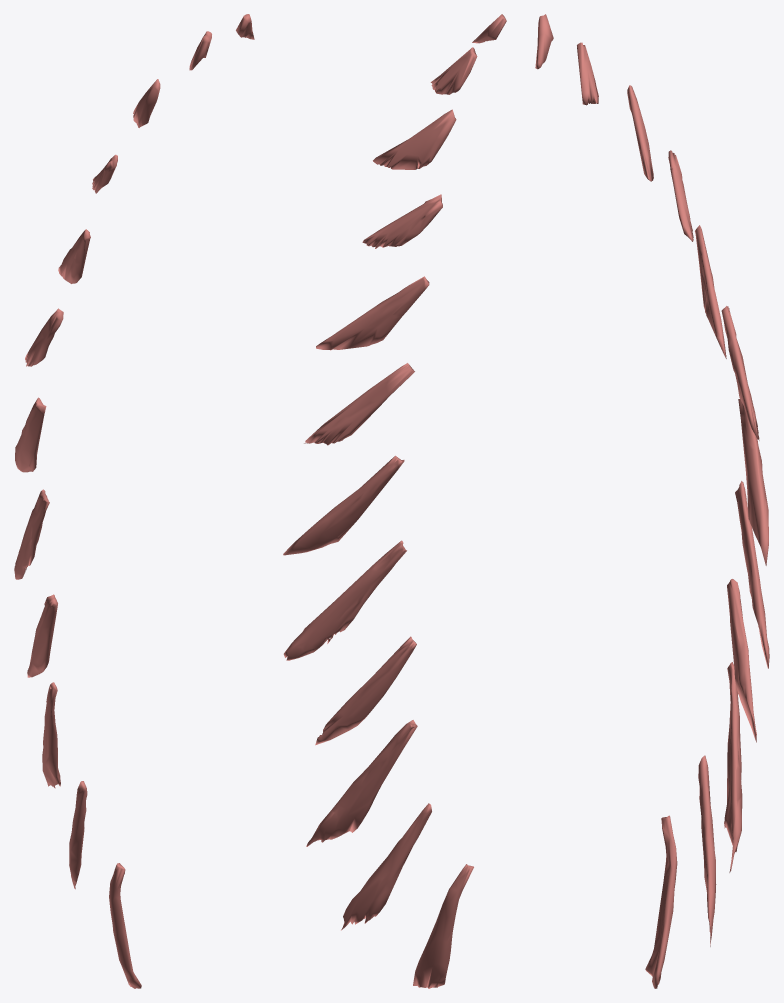
The picture shows the model from 3 angles, left to right: view 1: azimuth 90°, elevation 25°; view 2: azimuth 150°, elevation 25°; view 3: azimuth 270°, elevation 25°; orthographic projection. The views are drawn at different scales.
Visible parts, largest first — view 1: ZA_aa6df2fa0c846621; view 2: ZA_aa6df2fa0c846621; view 3: ZA_aa6df2fa0c846621.
Boxes of the visible parts, bbox=[...] form: ZA_aa6df2fa0c846621: bbox=[14, 14, 254, 988]; ZA_aa6df2fa0c846621: bbox=[283, 14, 506, 988]; ZA_aa6df2fa0c846621: bbox=[535, 14, 769, 988].
Size of the model in its own units: 0.0507 by 0.3231 by 0.0717.
